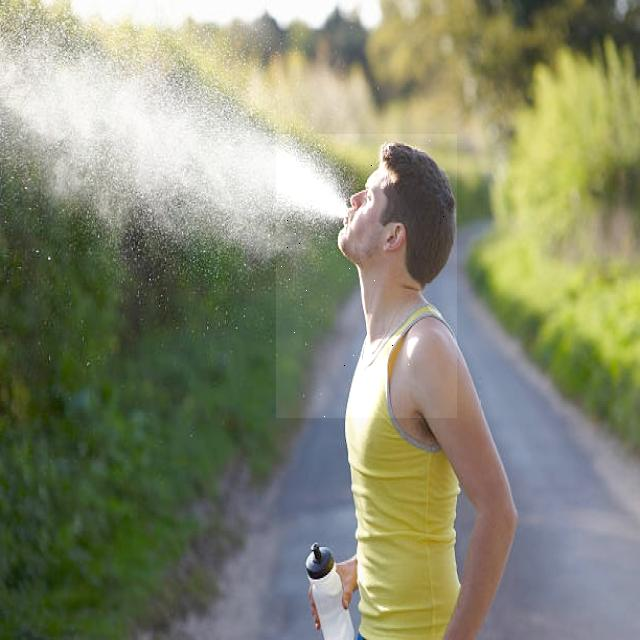Spitting: (276, 134, 457, 418)
